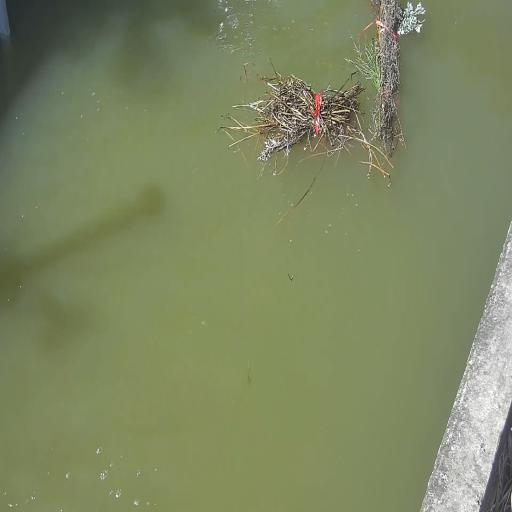twig: (252, 71, 363, 166), (360, 0, 425, 160)
